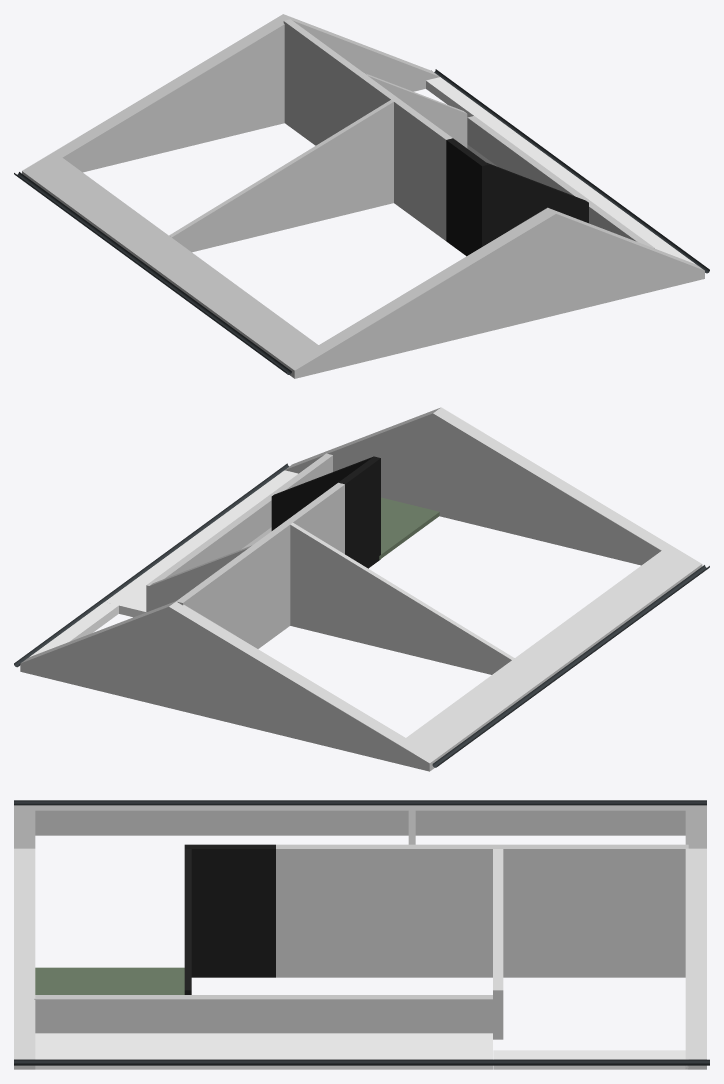
The model's file is Dach_Innen.001.gltf.
3 views of the same model, one above another, from view 1: azimuth 30°, elevation 25°; view 2: azimuth 150°, elevation 25°; view 3: azimuth 270°, elevation 25° (orthographic). The views are drawn at different scales.
Parts seen in each view (by area): view 1: Dach.001, Dach.005, Cube.021, _Curve.012, Cube.018, _Curve.014, Dach.006, Cube.017, Cube.020, Dach.007, Dachrinne.003, Dachrinne.002 (+1 smaller); view 2: Dach.005, Dach.001, Cube.021, Cube.018, _Curve.012, Cube.017, _Curve.014, Cube.020, Curve.065, Dachrinne.003, Dach.006, Dach.007 (+2 smaller); view 3: _Curve.012, Cube.018, Cube.017, Cube.020, _Curve.014, Dach.001, Dach.005, Dachrinne.002, Curve.065, Dachrinne.003, Cube.019, Dach.007 (+1 smaller).
Boxes of the visible parts, left/top/right/bottom form: Dach.001: left=286, top=207, right=704, bottom=378; Dach.005: left=22, top=14, right=439, bottom=179; Cube.021: left=169, top=100, right=393, bottom=252; _Curve.012: left=283, top=19, right=452, bottom=240; Cube.018: left=30, top=157, right=318, bottom=366; _Curve.014: left=446, top=138, right=488, bottom=256; Dach.006: left=487, top=163, right=588, bottom=242; Cube.017: left=467, top=116, right=654, bottom=248; Cube.020: left=467, top=132, right=694, bottom=263; Dach.007: left=364, top=73, right=467, bottom=148; Dachrinne.003: left=14, top=172, right=291, bottom=374; Dachrinne.002: left=431, top=69, right=709, bottom=273; Dach.005: left=20, top=601, right=437, bottom=771; Dach.001: left=285, top=407, right=702, bottom=572; Cube.021: left=290, top=523, right=514, bottom=674; Cube.018: left=405, top=551, right=693, bottom=759; _Curve.012: left=176, top=482, right=344, bottom=648; Cube.017: left=146, top=453, right=332, bottom=612; _Curve.014: left=338, top=456, right=380, bottom=568; Cube.020: left=105, top=470, right=297, bottom=617; Curve.065: left=379, top=497, right=439, bottom=559; Dachrinne.003: left=432, top=565, right=709, bottom=767; Dach.006: left=271, top=456, right=373, bottom=530; Dach.007: left=149, top=545, right=251, bottom=611; _Curve.012: left=276, top=844, right=688, bottom=977; Cube.018: left=35, top=805, right=688, bottom=835; Cube.017: left=34, top=995, right=492, bottom=1033; Cube.020: left=35, top=1033, right=492, bottom=1069; _Curve.014: left=184, top=844, right=275, bottom=977; Dach.001: left=14, top=805, right=35, bottom=1069; Dach.005: left=685, top=805, right=706, bottom=1069; Dachrinne.002: left=14, top=1059, right=709, bottom=1065; Curve.065: left=35, top=967, right=184, bottom=994; Dachrinne.003: left=14, top=800, right=706, bottom=805; Cube.019: left=493, top=1050, right=688, bottom=1069; Dach.007: left=493, top=849, right=503, bottom=1039.
Size of the model in its own units: 10.69 by 2.45 by 12.
